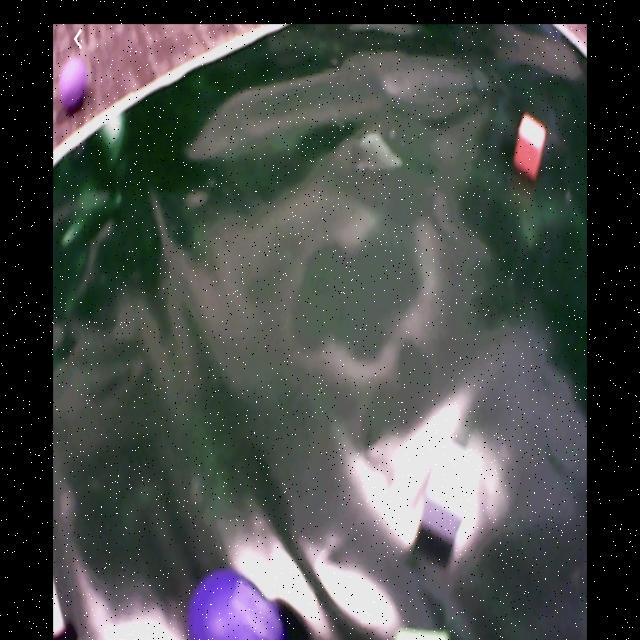ball: (186, 571, 283, 640), (58, 59, 88, 115)
